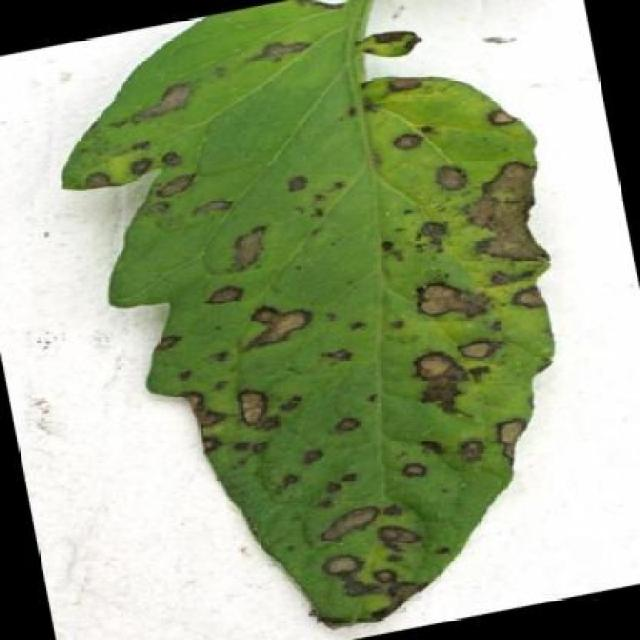Septoria leaf spot: (14, 0, 631, 638)
